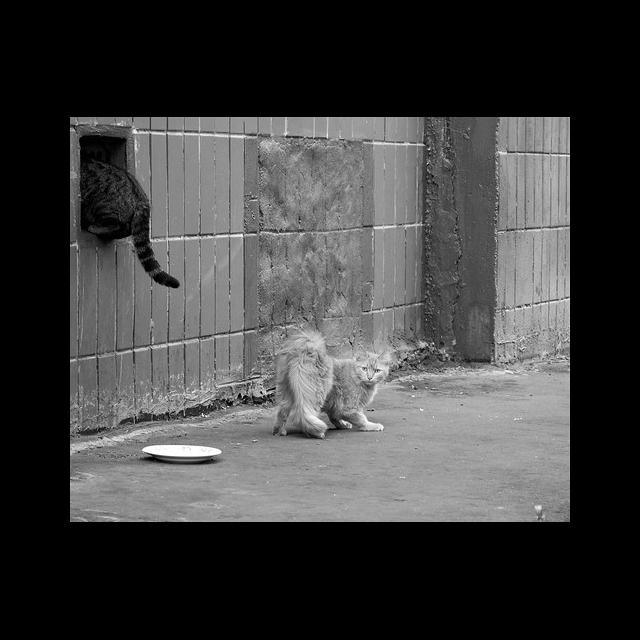animals: (80, 160, 180, 289), (276, 332, 390, 438)
